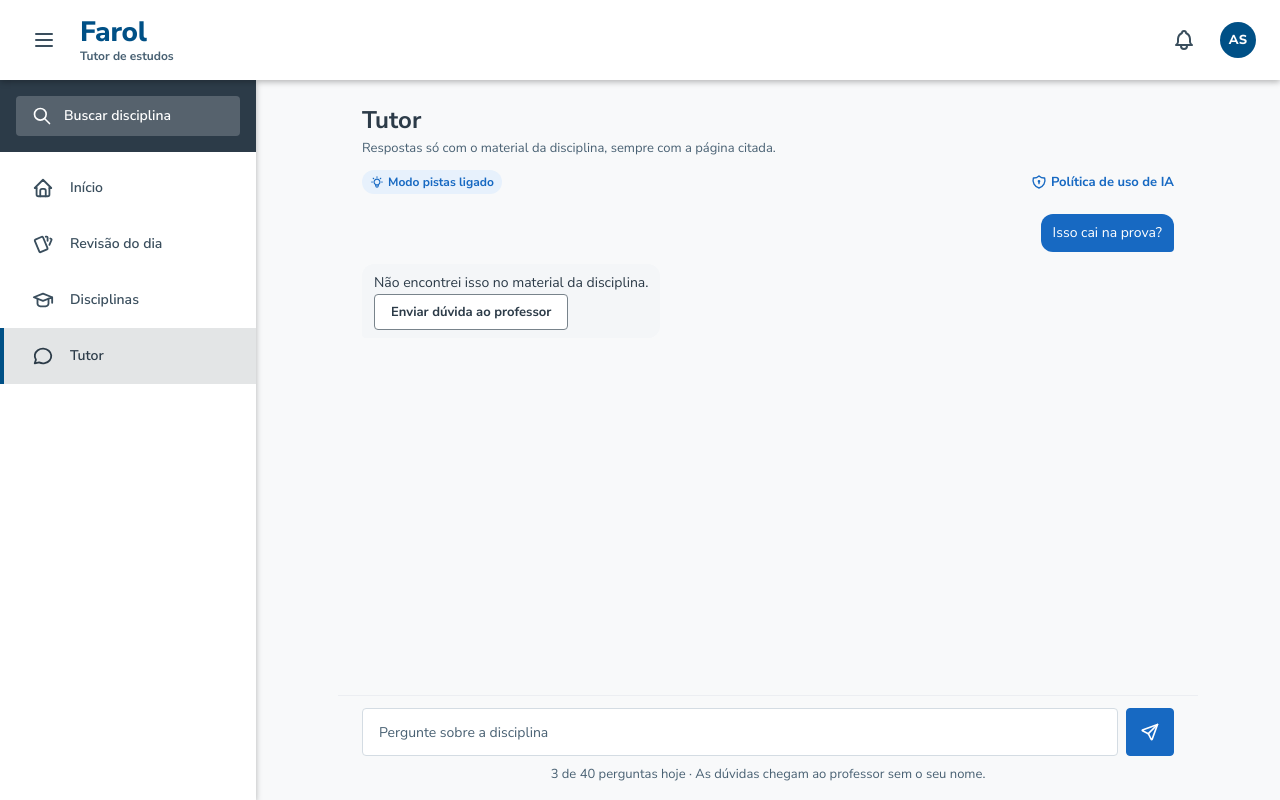
Test: tela do tutor (TUT-T24) › cancelar a prévia não envia nada
Click the button "Enviar dúvida ao professor" at (471, 312), box [374,294,568,330]
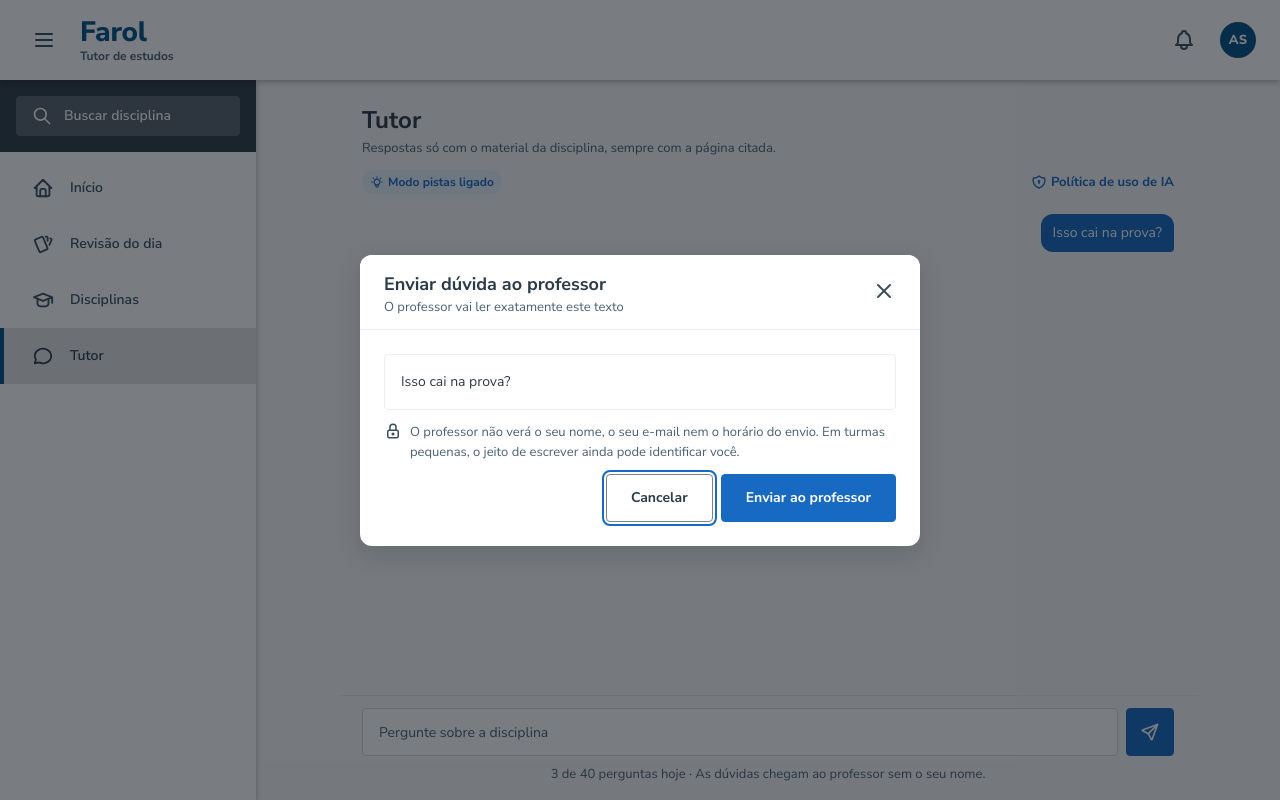
Click the button "Cancelar" at (659, 498), box [606,474,713,522]
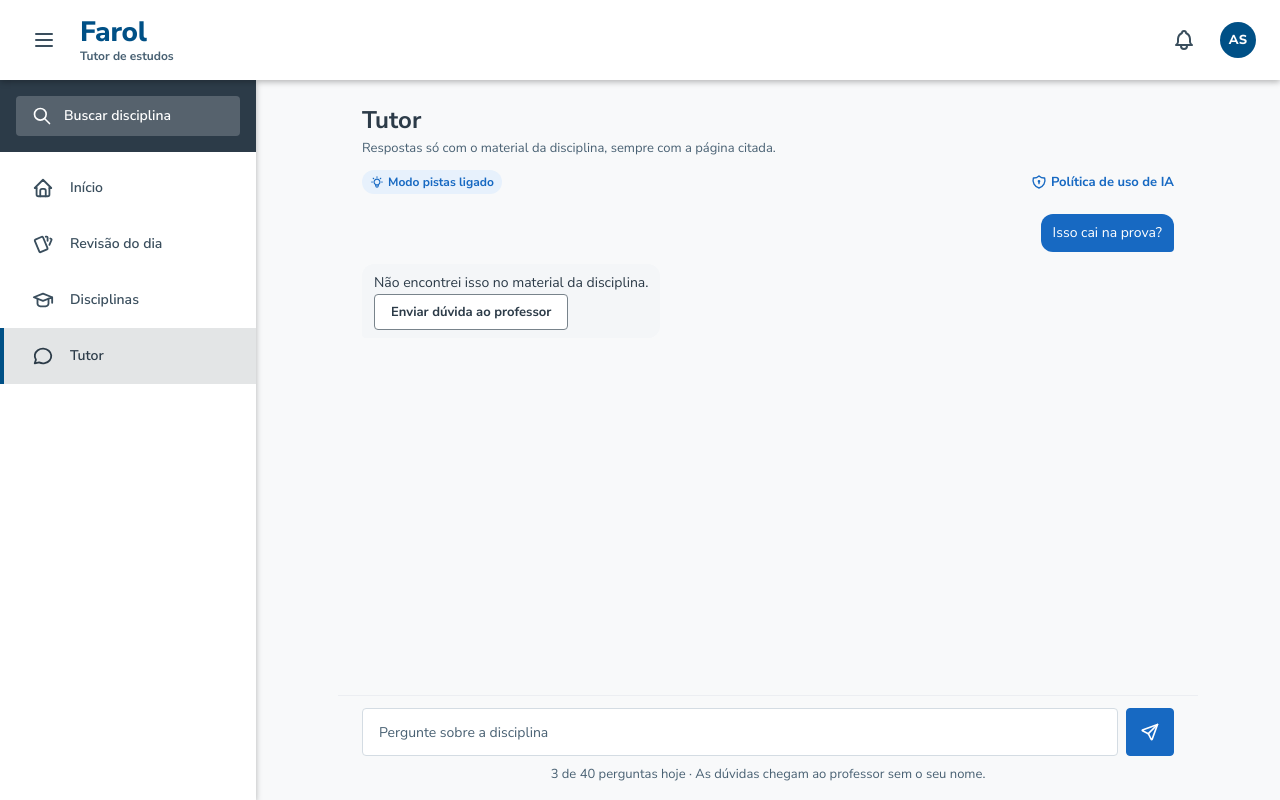
Expected: the dialog is gone
